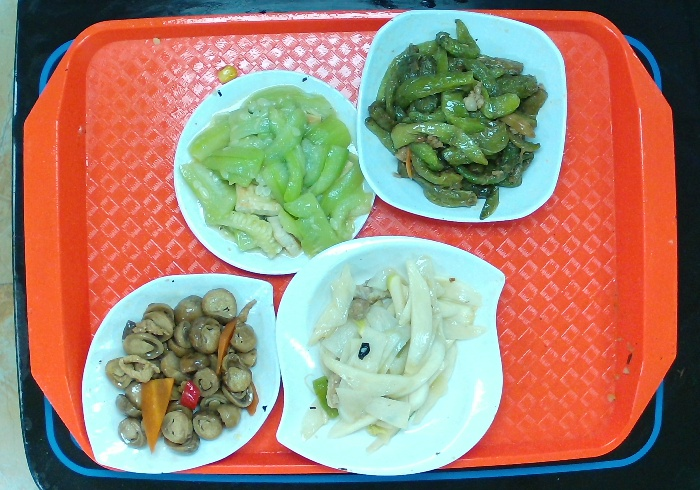RJxy-Da_Du_Pan: (78, 264, 280, 484)
RJxy-Shuang_Jiao_Pan: (272, 237, 520, 479)
RJxy-Si_Fang_Wan: (351, 6, 578, 227)
RJxy-Xiao_Yuan_Die: (167, 69, 373, 282)
